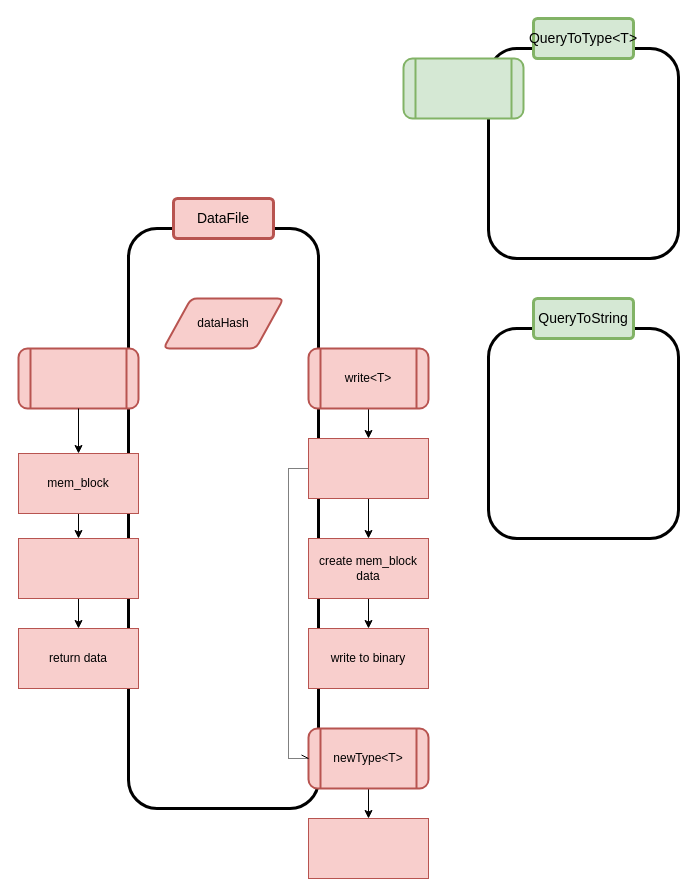
This 697x896 diagram has some shape labels left out. Here are the shapes that lost their labels. From the top down, the box of each, then its label:
(402, 57, 524, 119): getDataRef<T>
(17, 347, 139, 409): read
(308, 438, 428, 498): create Type
(18, 538, 138, 598): read from binary
(308, 818, 428, 878): create new hashTable
